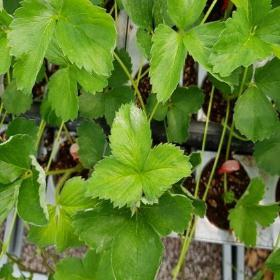Powdery Mildew Leaf: (54, 0, 118, 76), (107, 100, 153, 173), (15, 155, 50, 227), (0, 134, 37, 185)
